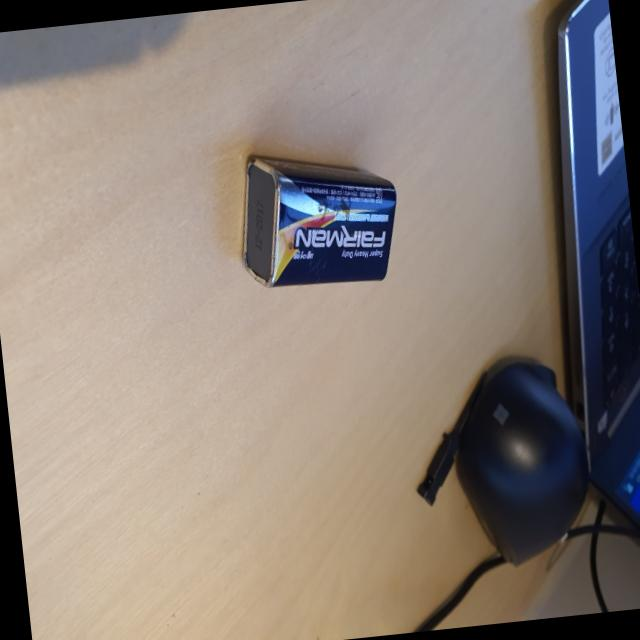battery-etc-etc: (227, 133, 410, 303)
